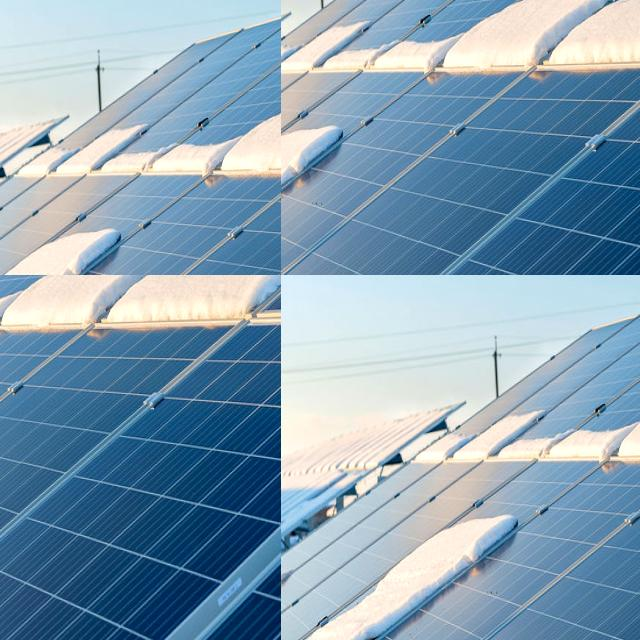bird: (0, 435, 32, 511), (28, 542, 56, 619), (0, 305, 29, 376), (175, 520, 198, 606), (0, 563, 21, 640), (0, 389, 25, 453), (0, 474, 23, 542), (0, 319, 29, 369), (0, 565, 23, 615), (0, 614, 31, 640)
hotspot: (3, 79, 92, 234)
panel: (292, 120, 466, 232), (281, 404, 452, 516), (366, 501, 532, 600), (487, 149, 588, 275), (418, 22, 551, 106), (594, 37, 640, 275), (482, 403, 614, 481), (290, 52, 404, 110), (281, 116, 328, 242), (522, 0, 640, 45), (406, 0, 502, 50), (291, 0, 387, 49), (281, 80, 323, 188), (281, 0, 346, 49), (281, 618, 370, 640), (281, 234, 303, 275)
